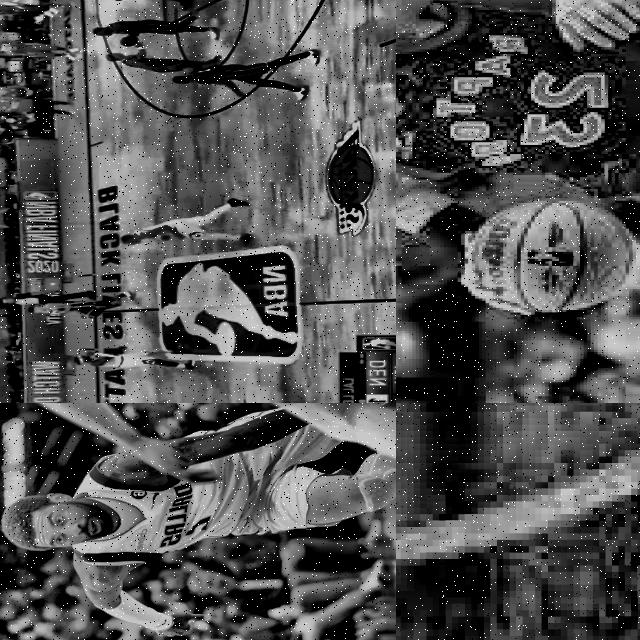Basketball: (120, 33, 136, 45)
